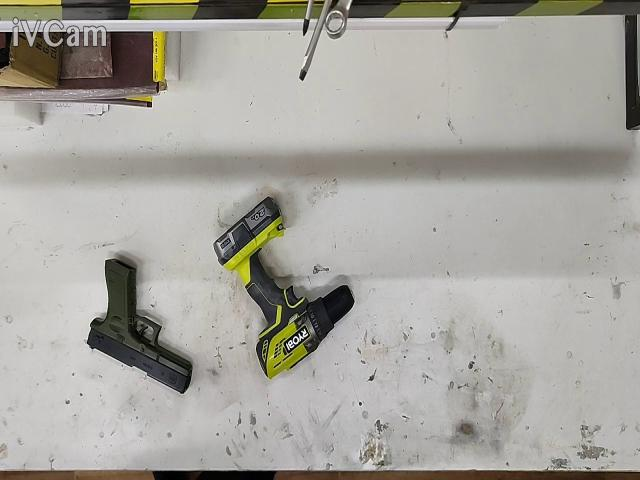Drill: (214, 197, 354, 378)
Gun: (88, 258, 192, 393)
Wrench: (325, 0, 351, 39)
